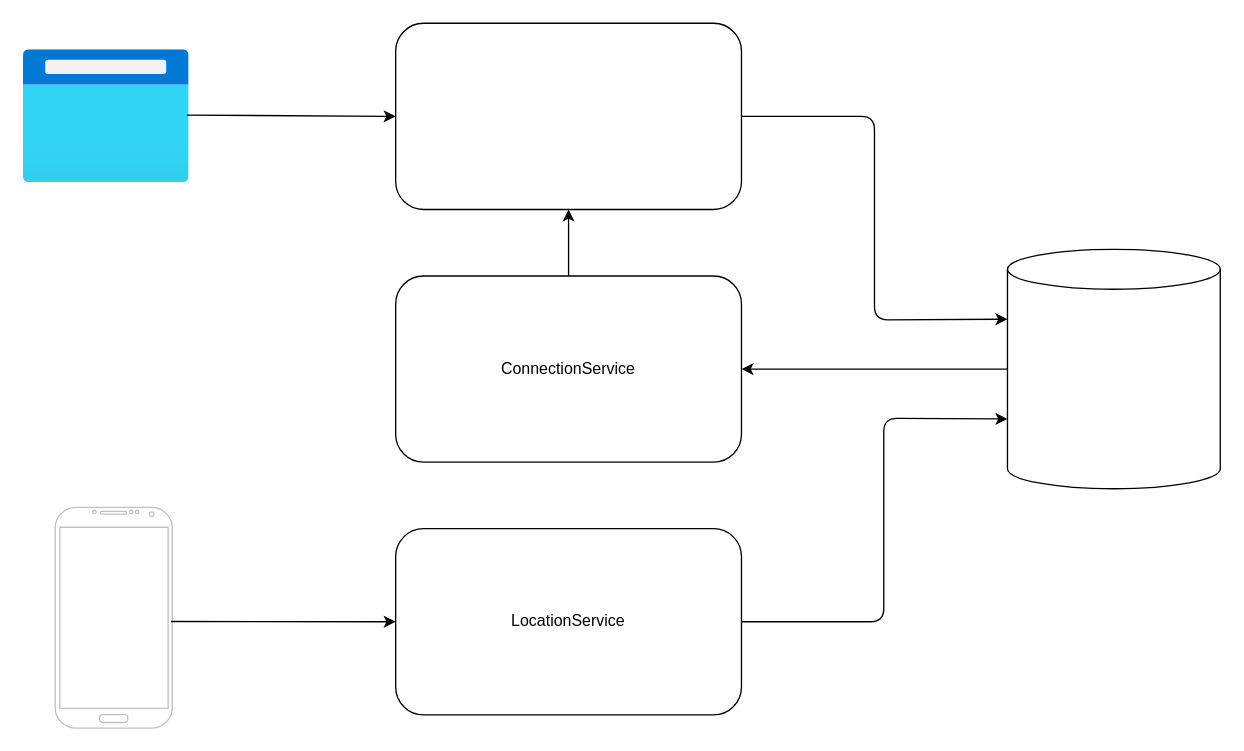
The diagram is 1244 pixels wide and 751 high, and some of its shapes have lost their labels. The shapes that lost their labels are listed below. From the top down, each one's centre as x and y in pixels, then its label:
(567,115): PersonService
(1113,368): DB
